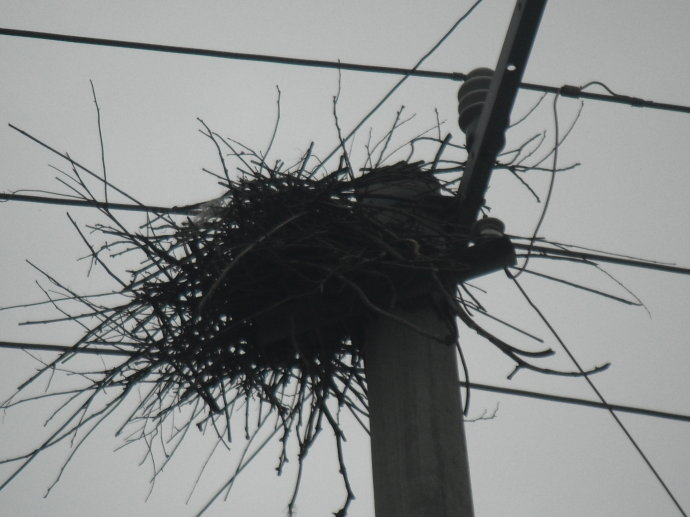bird-nest: (168, 173, 475, 374)
